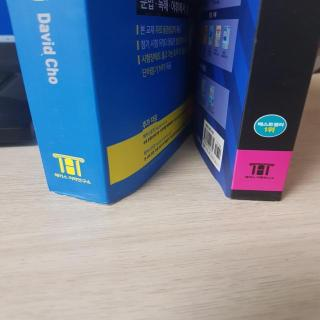book-spine: (214, 0, 320, 211), (7, 0, 108, 213)
